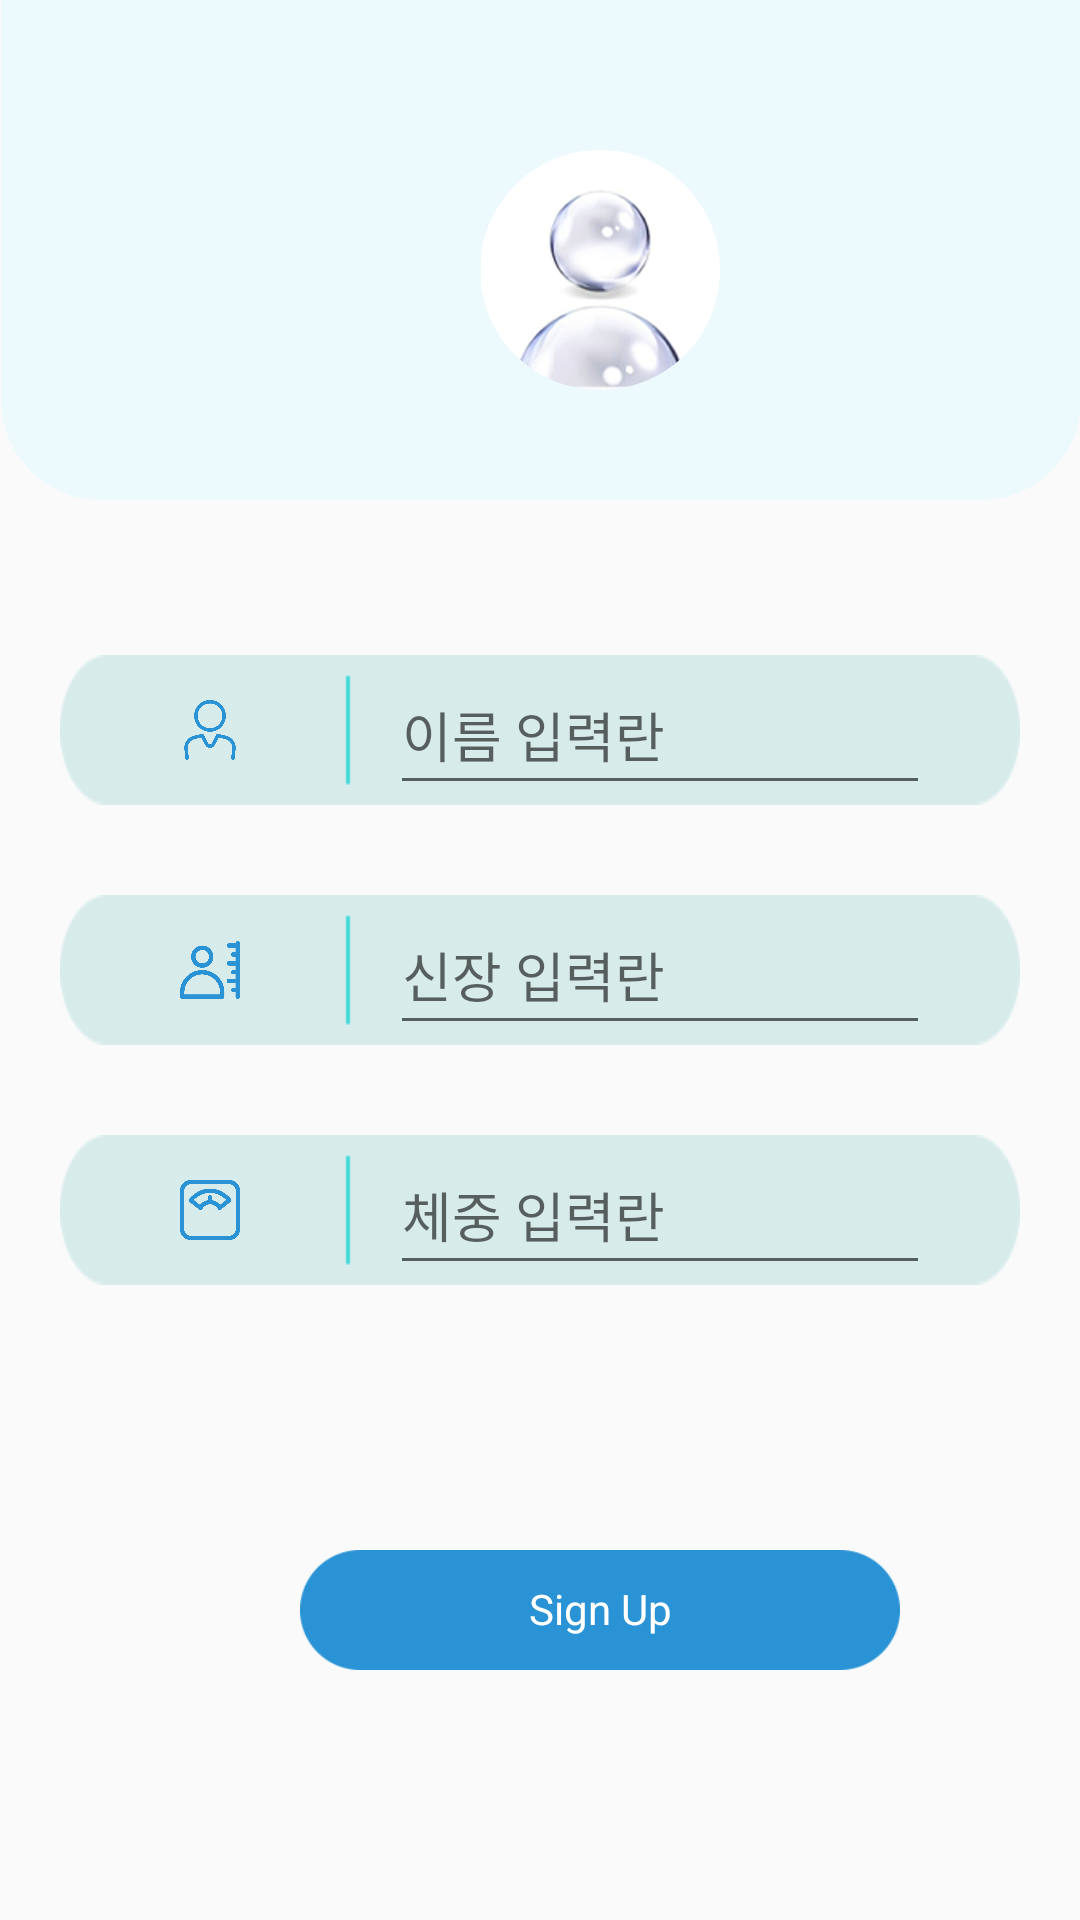

Icons on this 1080px×1920px Android screen, each with its box as (x1, y1, x2, y2):
iconheight: (180, 941, 240, 999)
iconhuman: (184, 700, 236, 760)
iconprofile: (481, 150, 720, 389)
iconweight: (180, 1180, 240, 1240)
